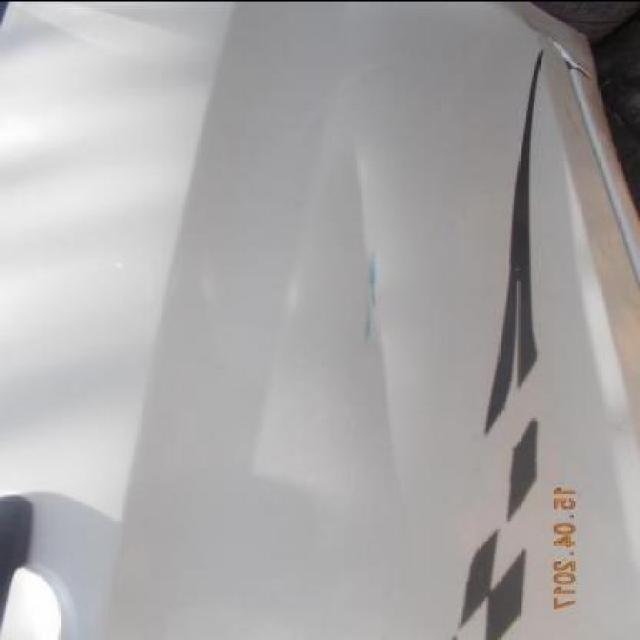damage: (239, 110, 336, 487), (356, 141, 411, 561), (363, 250, 379, 342)
